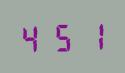five: (48, 20, 76, 52)
four: (18, 21, 46, 53)
one: (77, 19, 105, 51)
